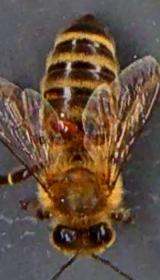varroa_mite: (48, 114, 80, 136)
